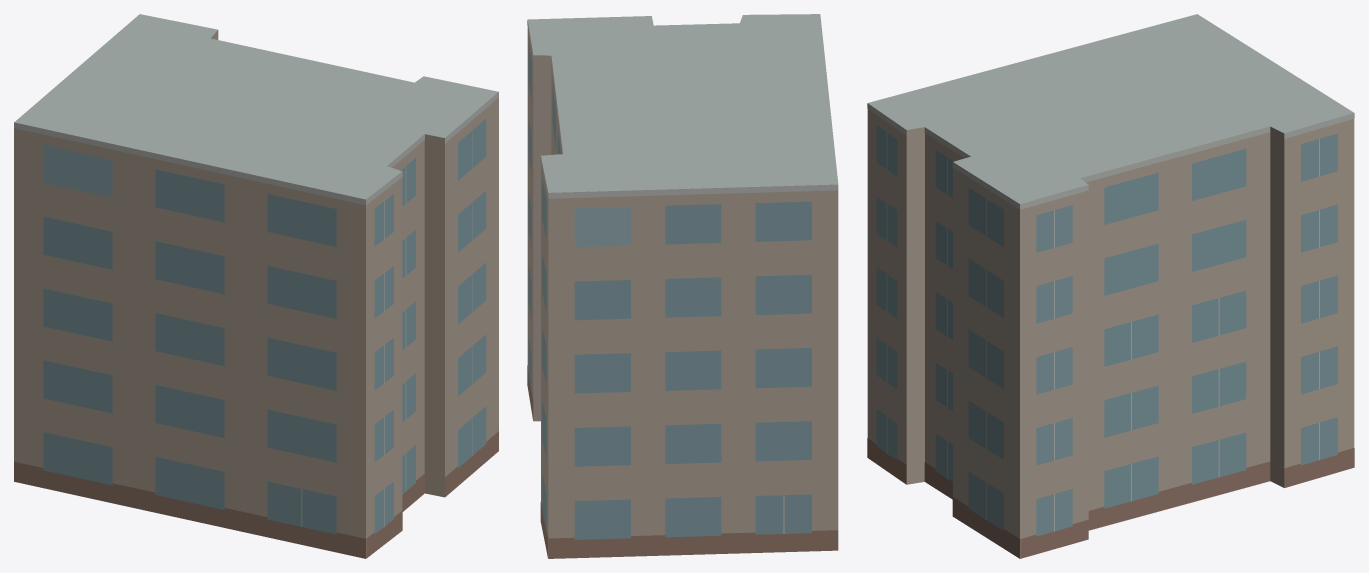
Rendered from survey-upis-32686339.glb.
3 renders of one model, left to right at view 1: azimuth 30°, elevation 25°; view 2: azimuth 150°, elevation 25°; view 3: azimuth 270°, elevation 25°, orthographic. The views are drawn at different scales.
Visible parts, largest first — view 1: survey-upis-32686339.tmp; view 2: survey-upis-32686339.tmp; view 3: survey-upis-32686339.tmp.
Part boxes in pixels (box(x1,y1,x2,y2)): survey-upis-32686339.tmp: box(14, 14, 498, 558); survey-upis-32686339.tmp: box(527, 14, 838, 558); survey-upis-32686339.tmp: box(867, 14, 1354, 558).
Bounding box in the file's own units: 17.55 × 15.25 × 18.99.
